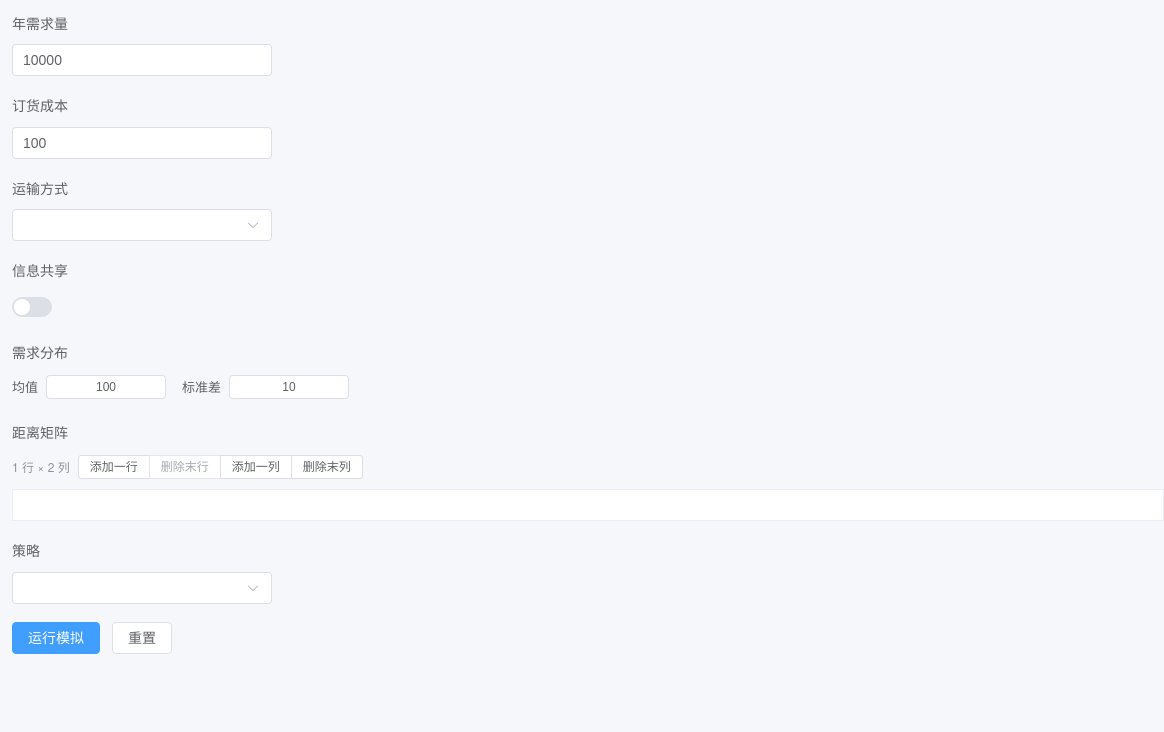
ParamPanel › 越界输入：即时红字提示且不可提交
Replace the text in the field below "年需求量" with "50" at (142, 60), box [23, 45, 261, 75]
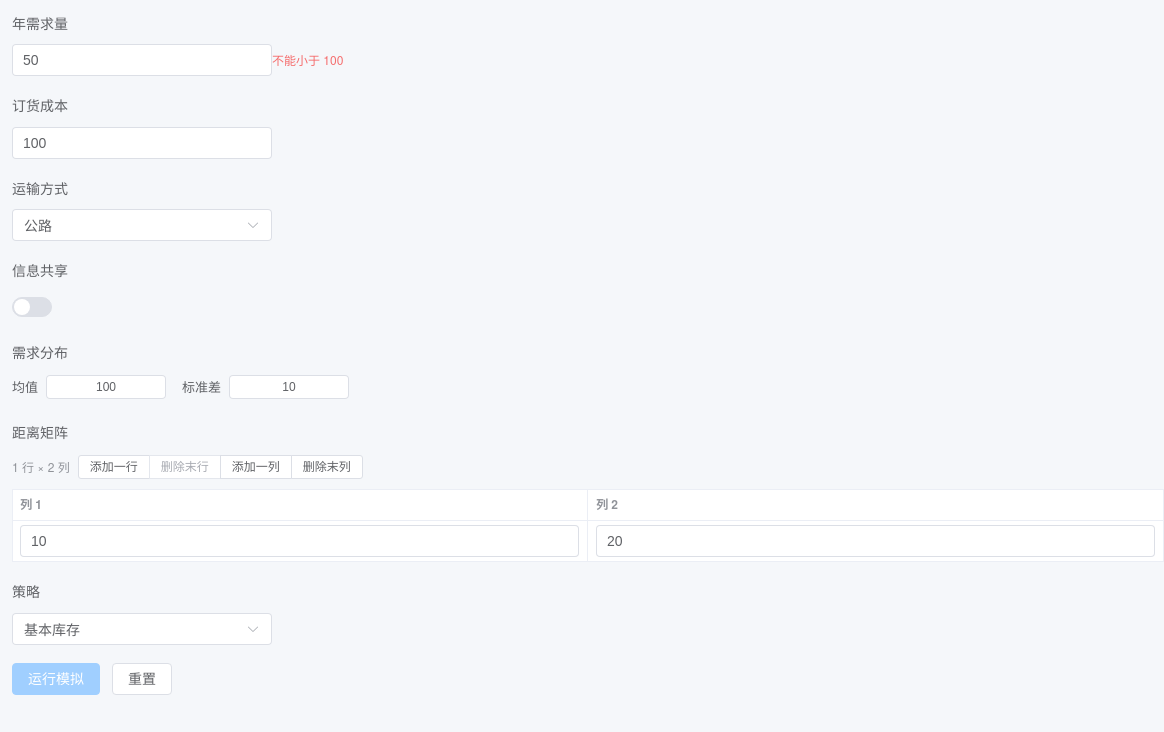
Expected: the text "不能小于 100" is shown, [272, 51, 343, 69]
Expected: the text with test id "param-error-annual_demand" reads "不能小于 100", [272, 51, 343, 68]
Expected: the button with test id "run-submit" is disabled, [12, 663, 100, 695]
